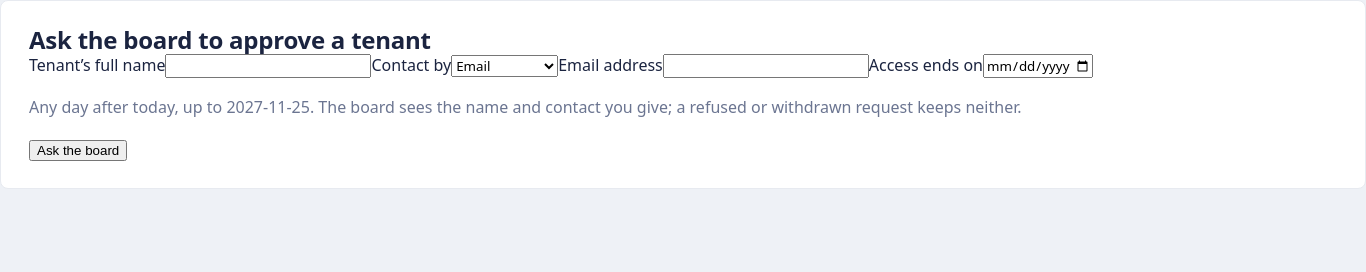
it: TenancyRequestForm › shows the server’s reason when the request is refused
Type "Sam New" into the field labelled "Tenant’s full name" at x=268, y=66, box [166,54,372,78]
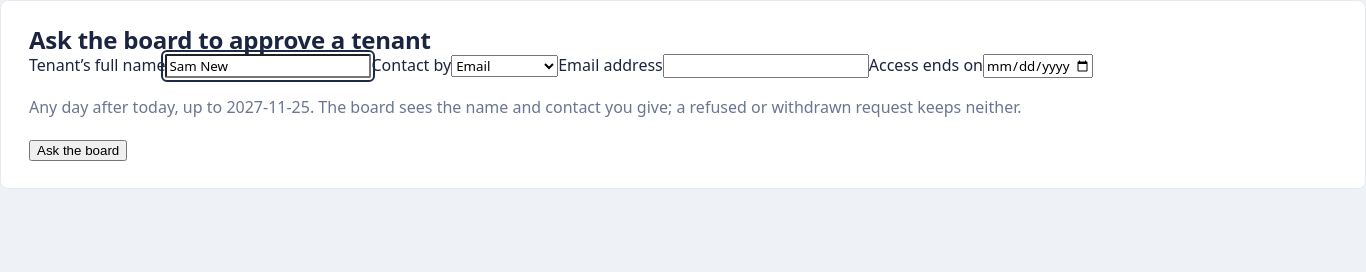
Type "sam@example.test" into the field labelled "Email address" at x=766, y=66, box [663,54,869,78]
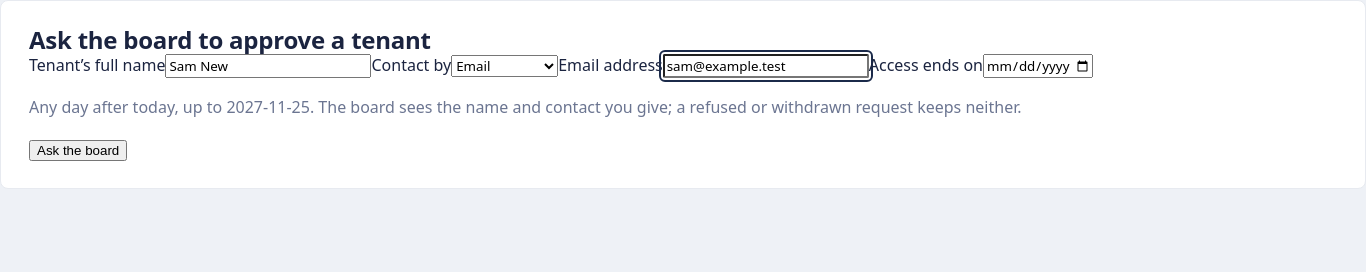
Type "2027-08-01" into the date field labelled "Access ends on" at x=1038, y=66, box [983,54,1093,78]
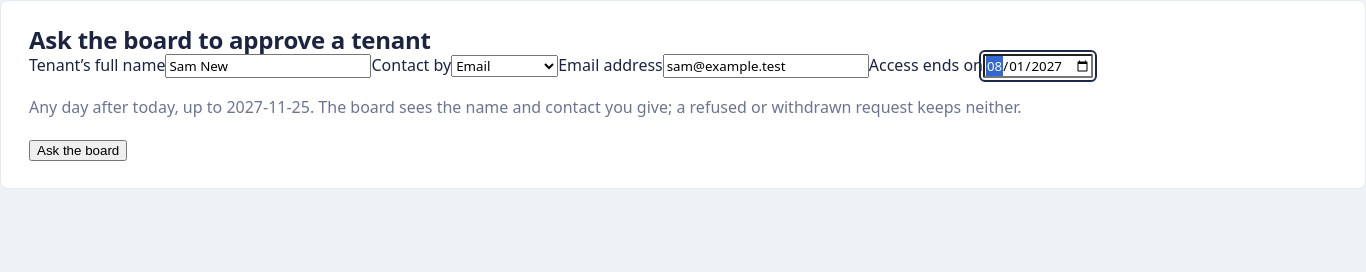
Click the button "Ask the board" at x=78, y=150, box [29,140,127,161]
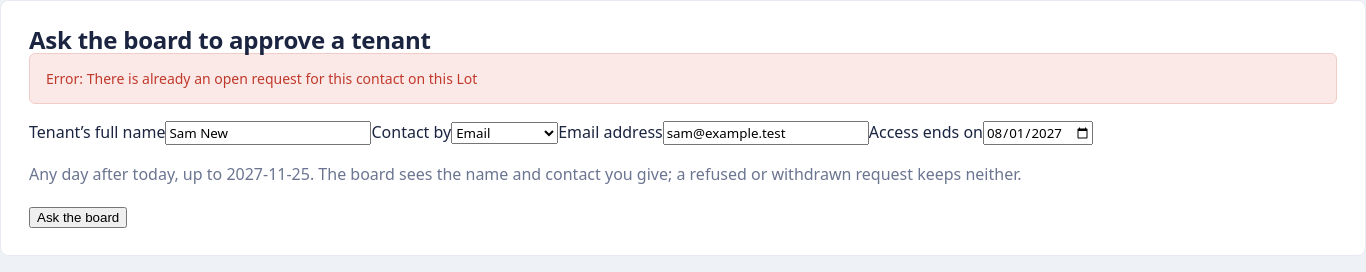
Result: the text "Error: There is already an open request for this contact on this Lot" is shown at [29,53,1337,104]
